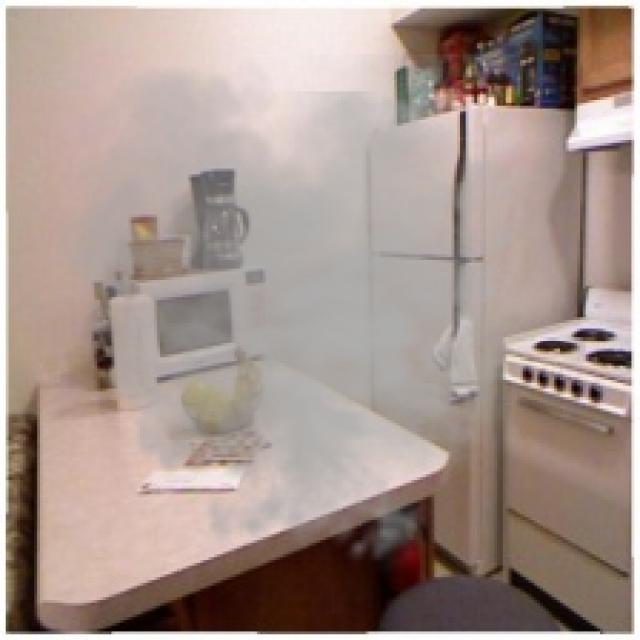smoke: (40, 54, 563, 577)
